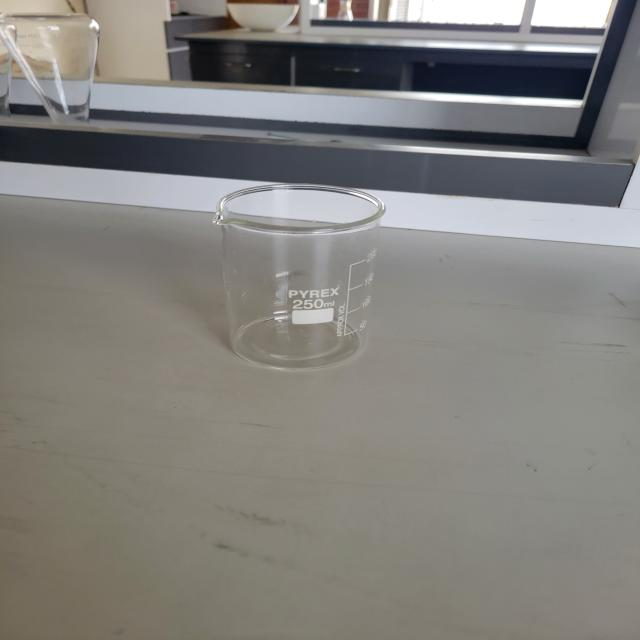Beaker: (204, 178, 390, 375)
